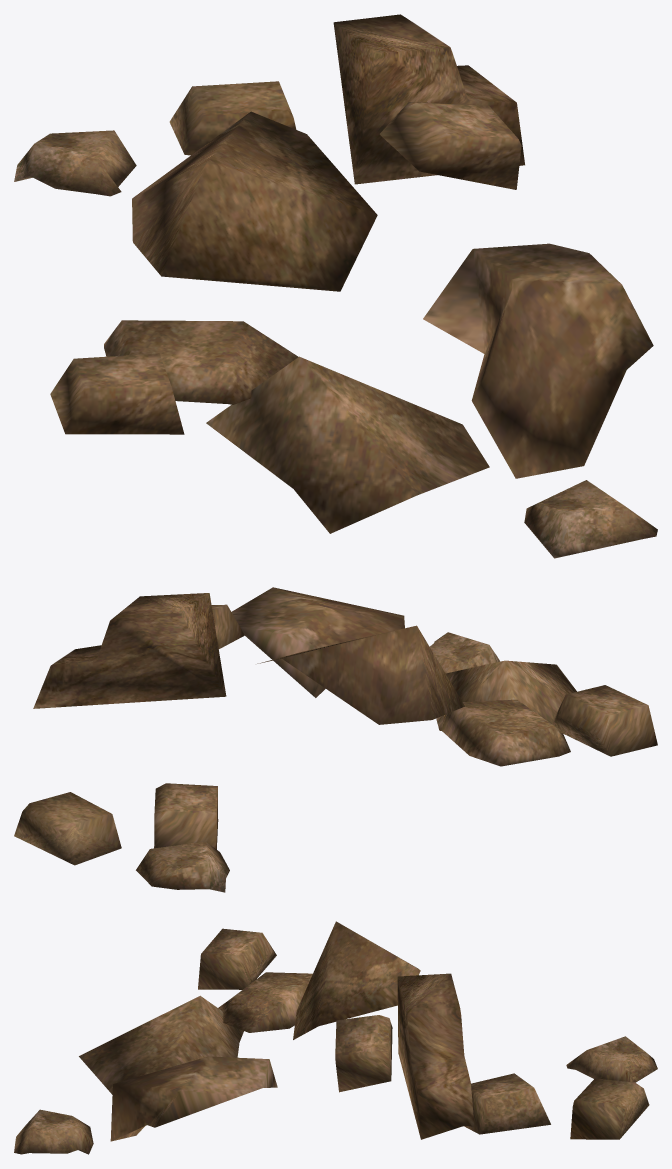
The model's file is dcfx_shit_01.FBX.
The picture shows the model from 3 angles, top to bottom: view 1: azimuth 30°, elevation 25°; view 2: azimuth 150°, elevation 25°; view 3: azimuth 270°, elevation 25°; orthographic projection. The views are drawn at different scales.
Visible parts, largest first — view 1: dcfx_shit_01; view 2: dcfx_shit_01; view 3: dcfx_shit_01.
Part boxes in pixels (bbox=[...]): dcfx_shit_01: bbox=[14, 14, 657, 558]; dcfx_shit_01: bbox=[14, 587, 657, 892]; dcfx_shit_01: bbox=[14, 921, 657, 1154].
Size of the model in its own units: 102 by 44.97 by 140.
